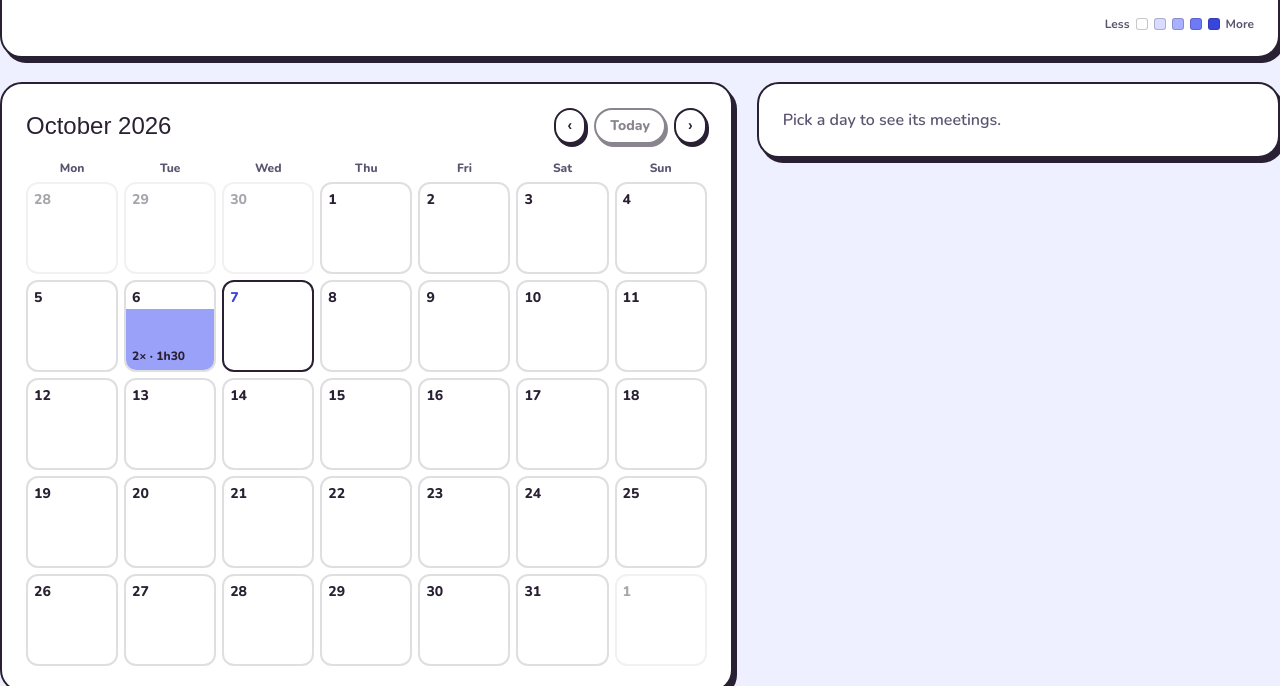
Test: CalendarView › shows totals, a year heatmap, the month, and the meetings of a picked day
The image size is (1280, 686).
(page scrolled)
# Pick a day in the month view: its meetings load for that local day.
Step 1. Click the button named "Tue, Oct 6: 2 meetings, 1 h 30 min" → (170, 326), box [124,280,216,372]
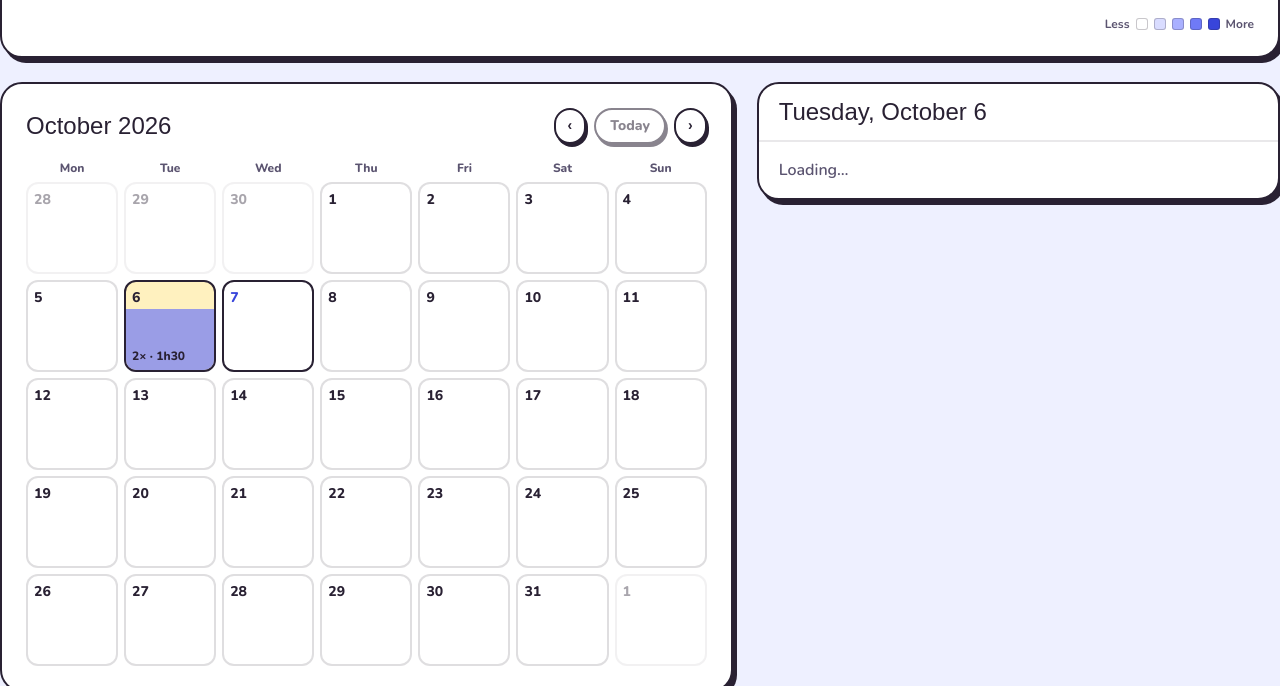
Expected: the element named "Meetings on Tuesday, October 6" is shown, [757,82,1279,200]
# Page back a month: it asks for September's numbers.
Step 2. Click the button named "Previous month" → (570, 126), box [554,108,586,144]
(page scrolled)
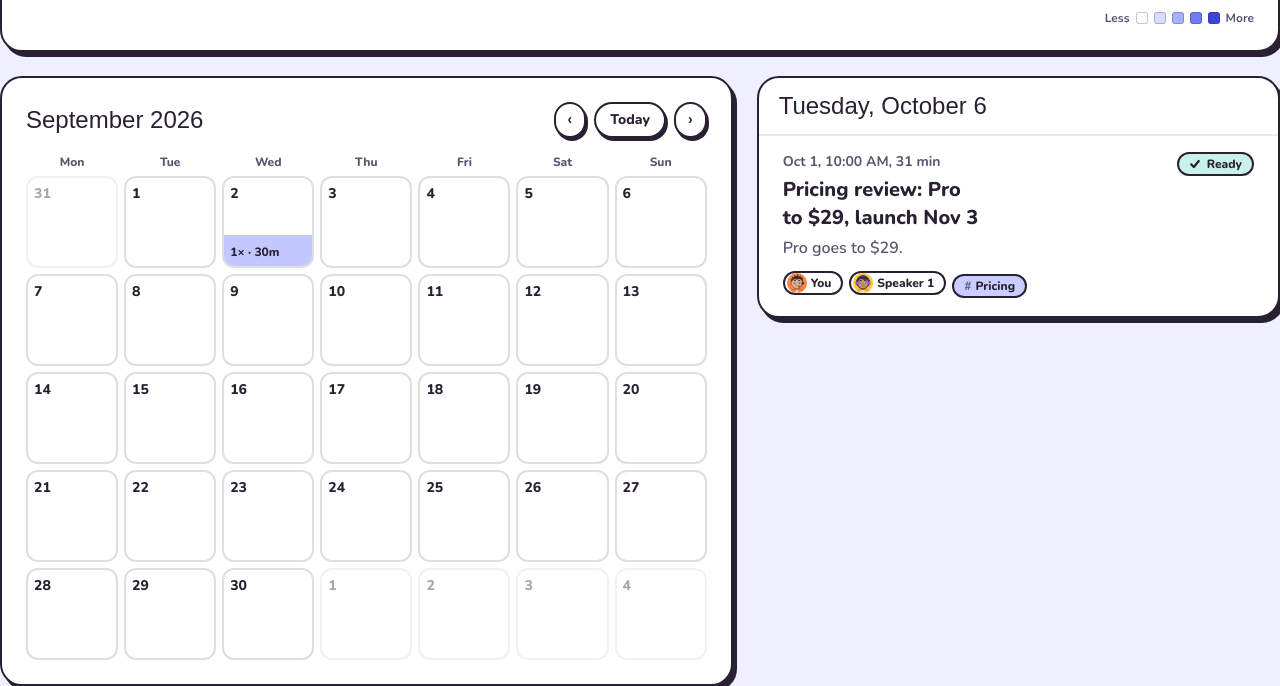
Expected: the element "September 2026" is shown, [0,76,733,685]
